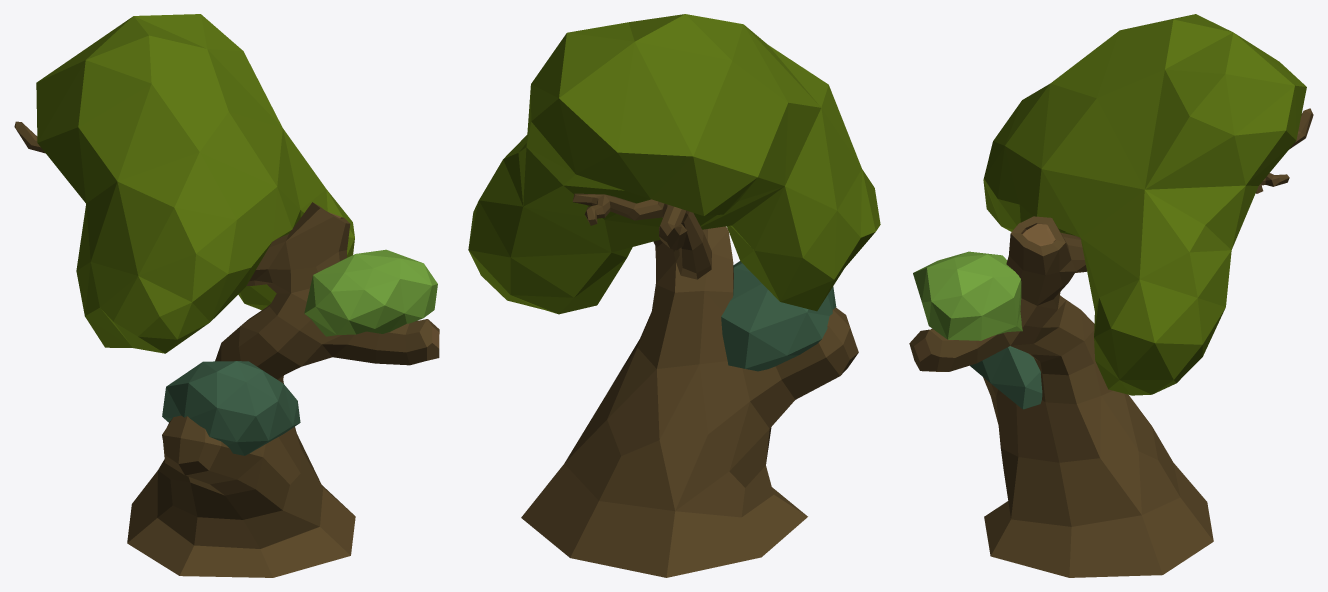
File: EM_Tree1a.fbx
3 views of the same model, side by side, from view 1: azimuth 30°, elevation 25°; view 2: azimuth 150°, elevation 25°; view 3: azimuth 270°, elevation 25° (orthographic). The views are drawn at different scales.
Parts seen in each view (by area): view 1: EM_Tree1a_LOD0; view 2: EM_Tree1a_LOD0; view 3: EM_Tree1a_LOD0.
Boxes of the visible parts, x1,y1,x2,y2 form: EM_Tree1a_LOD0: (14,14,439,577); EM_Tree1a_LOD0: (468,14,880,577); EM_Tree1a_LOD0: (909,14,1313,577).
Size of what is drawn, in the model's own units: 3.55 by 5.51 by 4.18.
